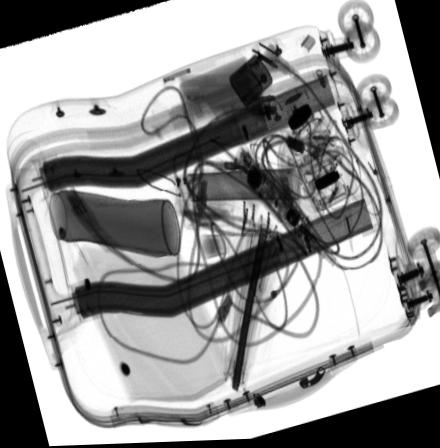Lighter: (229, 56, 272, 110)
